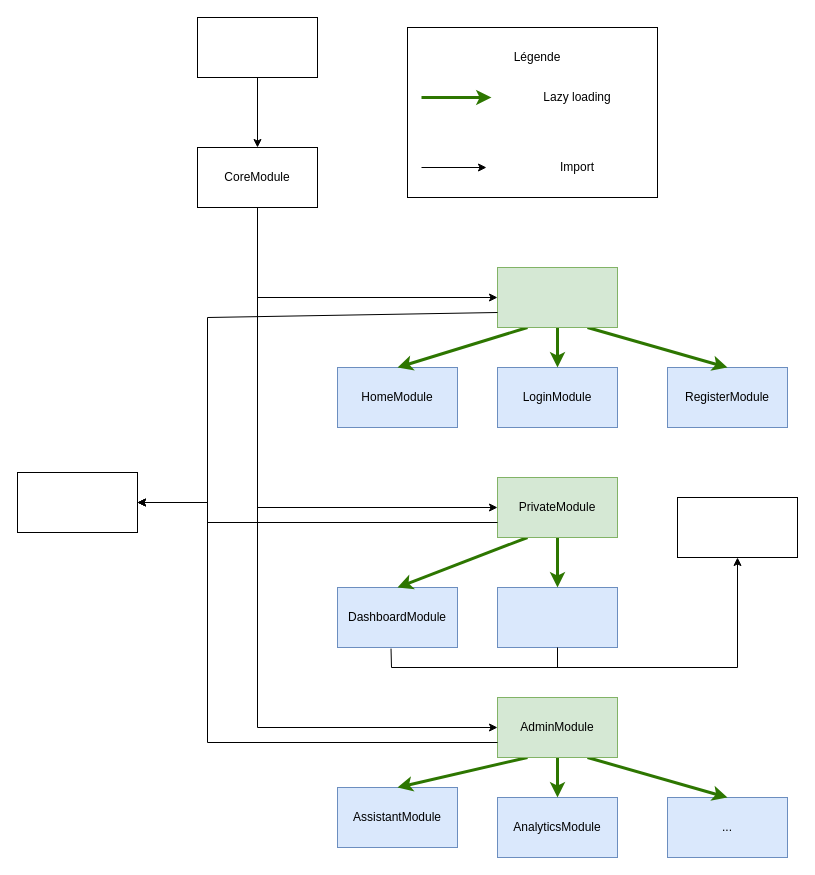
This 815x875 diagram has some shape labels left out. Each missing label, with the centre of its shape:
"AppModule" belongs at point (257, 47).
"ProfilModule" belongs at point (557, 617).
"PublicModule" belongs at point (557, 297).
"SharedModule" belongs at point (77, 502).
"SharedPrivateModule" belongs at point (737, 527).
